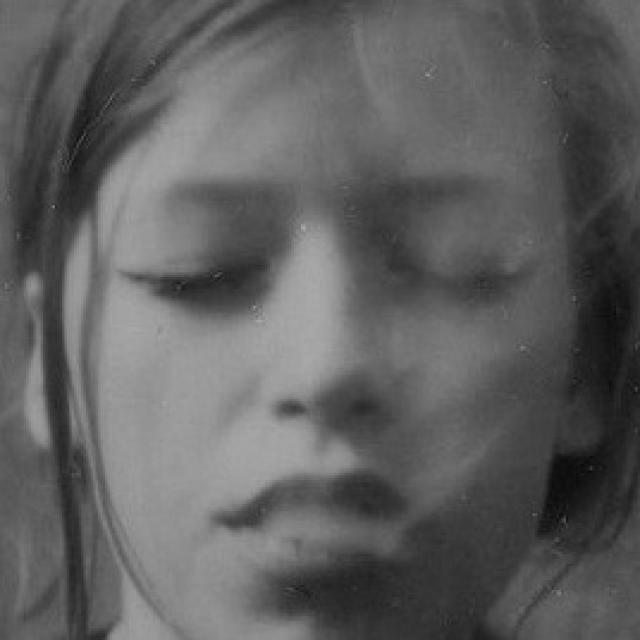real: (70, 102, 592, 592), (118, 208, 536, 326)
